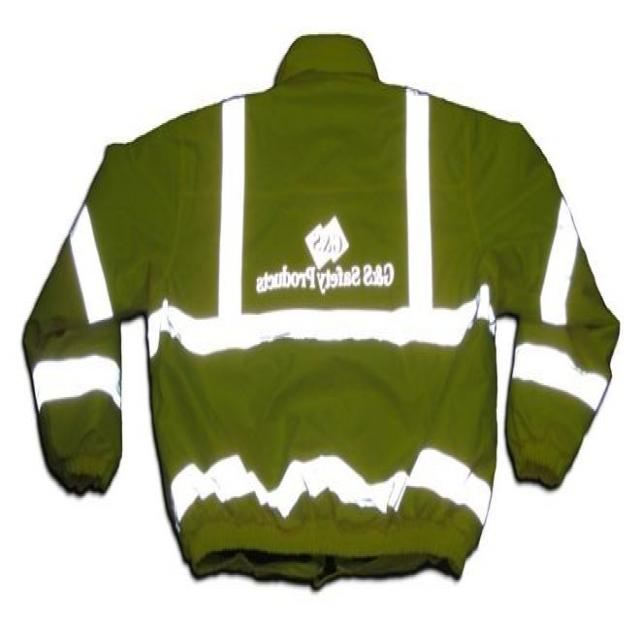Reflective-Jacket: (22, 36, 632, 587)
